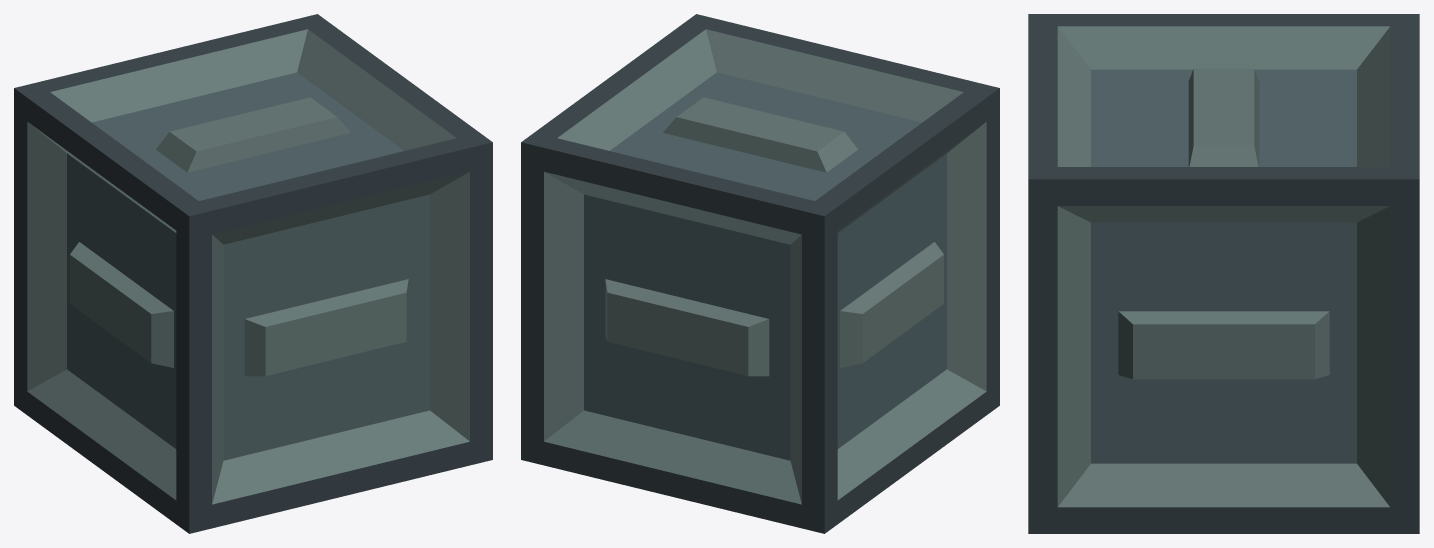
Rendered from frame-block.glb.
3 views of the same model, side by side, from view 1: azimuth 30°, elevation 25°; view 2: azimuth 150°, elevation 25°; view 3: azimuth 270°, elevation 25° (orthographic). The views are drawn at different scales.
Parts seen in each view (by area): view 1: frame-block; view 2: frame-block; view 3: frame-block.
Boxes of the visible parts, bbox=[...] form: frame-block: bbox=[14, 14, 492, 533]; frame-block: bbox=[521, 14, 999, 533]; frame-block: bbox=[1028, 14, 1419, 533].
Bounding box in the file's own units: 1 × 1 × 1.
